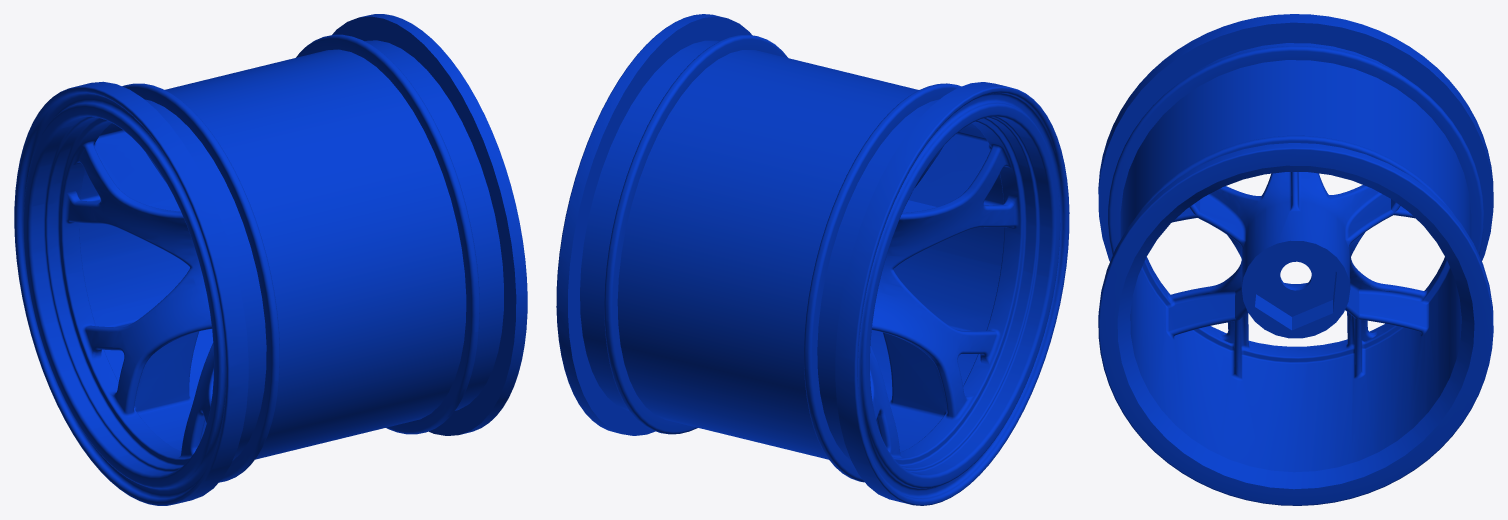
File: Plastic_Wheel_130mm__Plastic_Rim_2_3.dae
The picture shows the model from 3 angles, left to right: view 1: azimuth 30°, elevation 25°; view 2: azimuth 150°, elevation 25°; view 3: azimuth 270°, elevation 25°; orthographic projection. The views are drawn at different scales.
Visible parts, largest first — view 1: node0; view 2: node0; view 3: node0.
Boxes of the visible parts, x1=… form: node0: x1=14, y1=14, x2=527, y2=505; node0: x1=556, y1=14, x2=1069, y2=505; node0: x1=1098, y1=14, x2=1493, y2=505.
Size of the model in its own units: 0.05 by 0.062 by 0.062.
